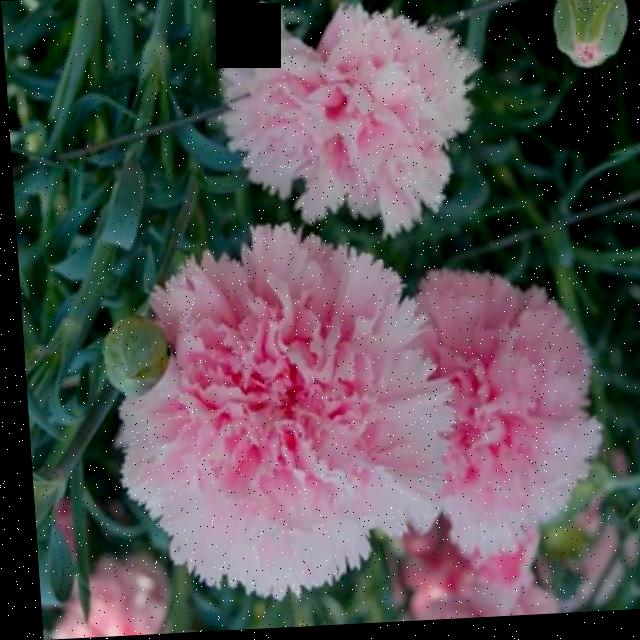carnation: (73, 244, 467, 599)
